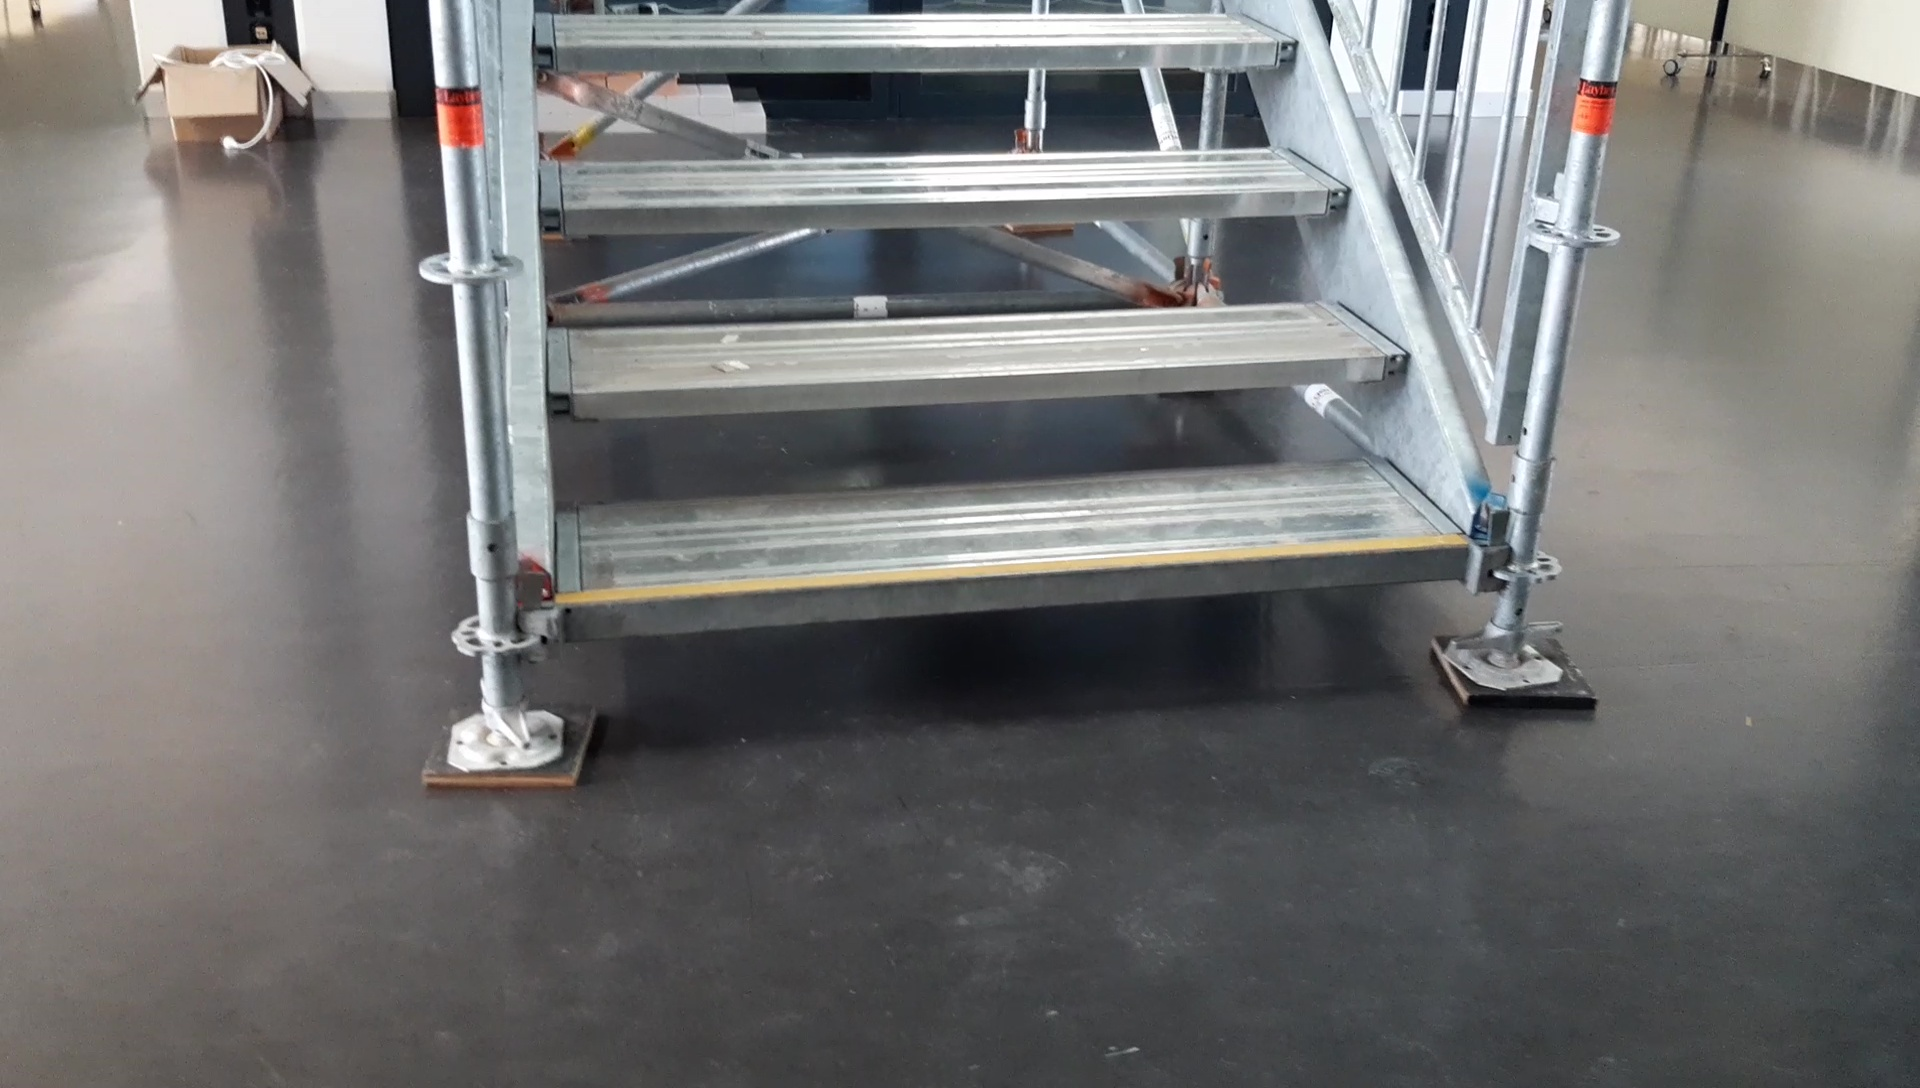edge: (563, 539, 1470, 636), (549, 352, 1408, 415), (539, 186, 1350, 235), (530, 38, 1298, 73)
stairs: (413, 3, 1605, 782)
